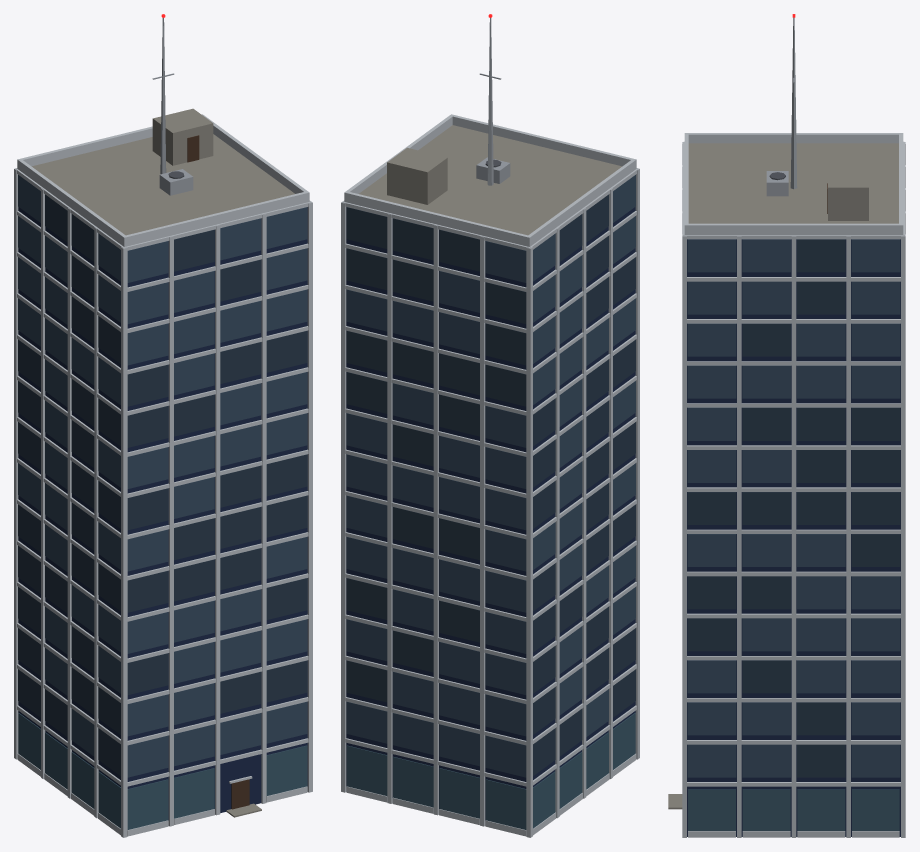
3 renders of one model, left to right at view 1: azimuth 30°, elevation 25°; view 2: azimuth 150°, elevation 25°; view 3: azimuth 270°, elevation 25°, orthographic. The views are drawn at different scales.
Visible parts, largest first — view 1: off_d; view 2: off_d; view 3: off_d.
Boxes of the visible parts, x1,y1,x2,y2 form: off_d: [14, 14, 312, 837]; off_d: [341, 14, 639, 837]; off_d: [668, 14, 905, 837].
Size of what is drawn, in the model's own units: 16.36 by 62.7 by 17.38.
